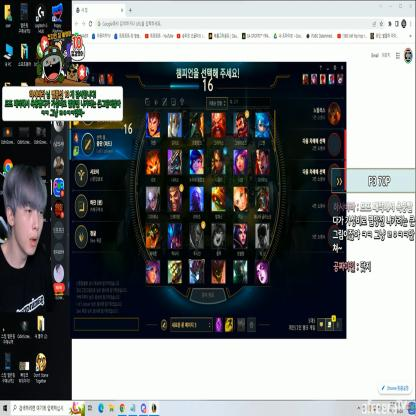donation: (1, 32, 124, 124)
streamer: (0, 163, 57, 311)
